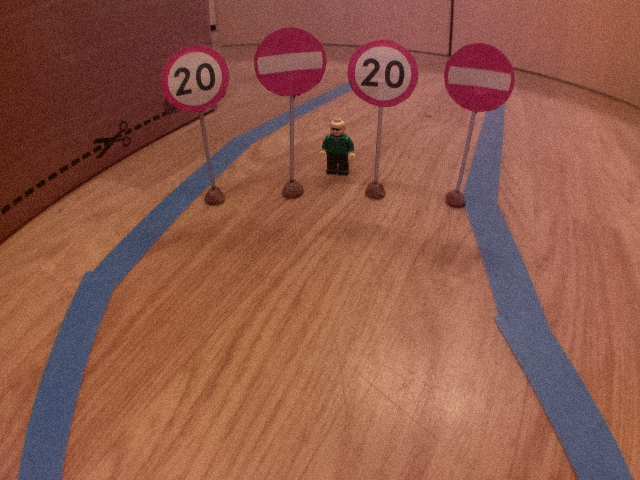LEGO_person: (318, 116, 362, 180)
ogr_20: (346, 36, 421, 111), (159, 43, 231, 115)
zakaz: (252, 24, 330, 99), (442, 40, 518, 115)
